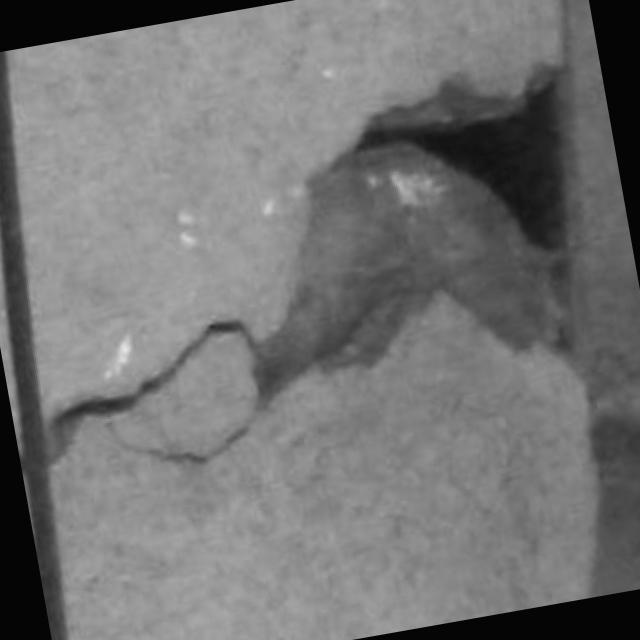crack: (252, 71, 567, 403), (47, 321, 257, 464)
